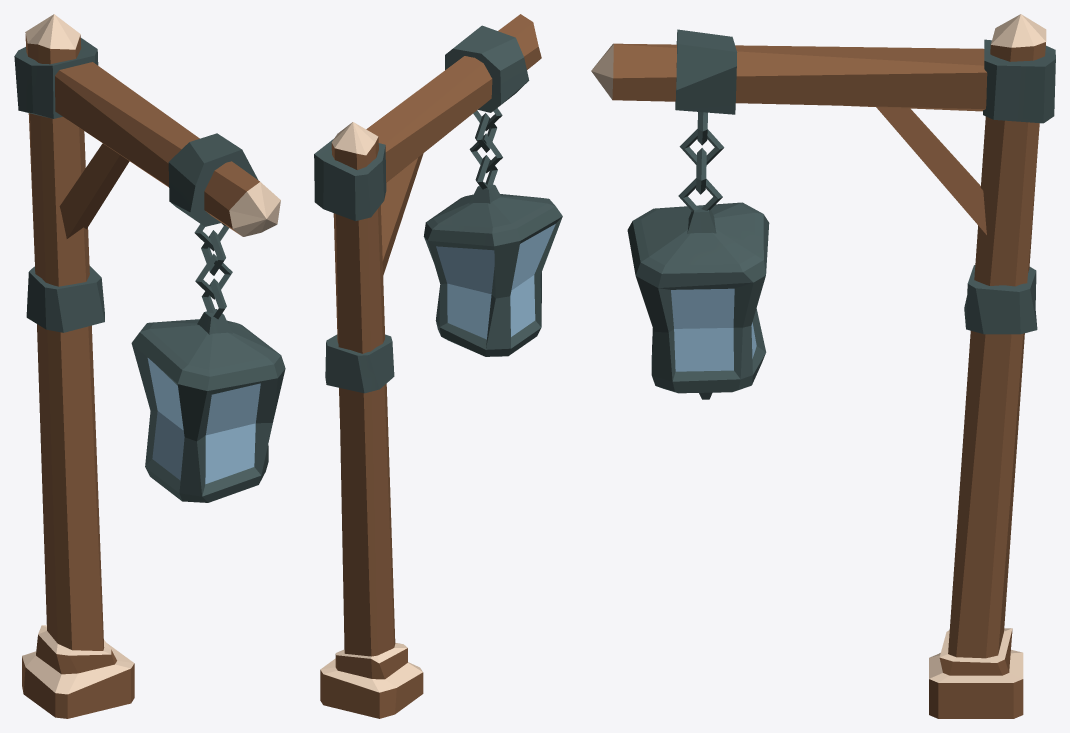
File: SM_L_street_Lamp.fbx
3 views of the same model, side by side, from view 1: azimuth 30°, elevation 25°; view 2: azimuth 150°, elevation 25°; view 3: azimuth 270°, elevation 25° (orthographic). The views are drawn at different scales.
Parts seen in each view (by area): view 1: SM_L_Street_Lamp; view 2: SM_L_Street_Lamp; view 3: SM_L_Street_Lamp.
Boxes of the visible parts, x1,y1,x2,y2 form: SM_L_Street_Lamp: (14,14,285,718); SM_L_Street_Lamp: (314,14,562,718); SM_L_Street_Lamp: (591,14,1055,718).
Bounding box in the file's own units: 0.5495 × 3.12 × 1.92.
1 material, 1 textured.
